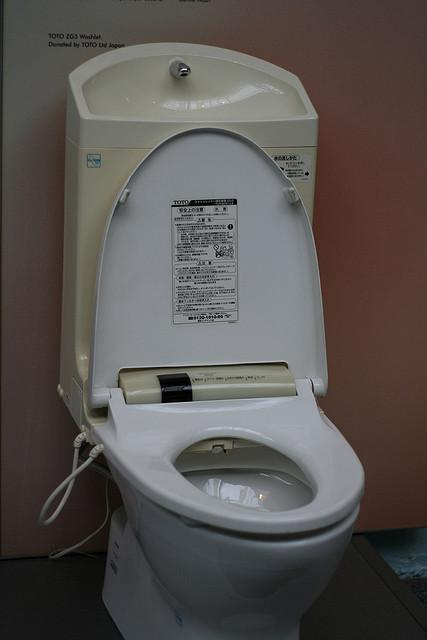Sanitario: (67, 51, 363, 638)
